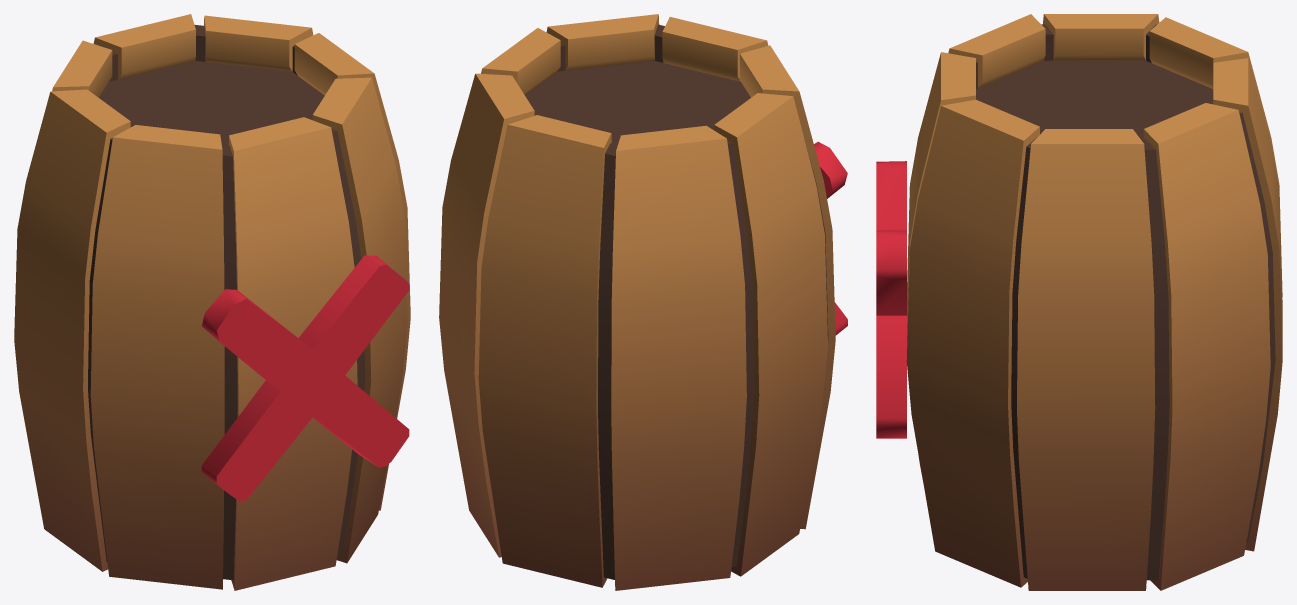
3 renders of one model, left to right at view 1: azimuth 30°, elevation 25°; view 2: azimuth 150°, elevation 25°; view 3: azimuth 270°, elevation 25°, orthographic.
Visible parts, largest first — view 1: LOD 1_4746937021995407784_ff341511bebd94b45835b85c6ba3315b; view 2: LOD 1_4746937021995407784_ff341511bebd94b45835b85c6ba3315b; view 3: LOD 1_4746937021995407784_ff341511bebd94b45835b85c6ba3315b.
Boxes of the visible parts, x1,y1,x2,y2 form: LOD 1_4746937021995407784_ff341511bebd94b45835b85c6ba3315b: [14, 14, 410, 590]; LOD 1_4746937021995407784_ff341511bebd94b45835b85c6ba3315b: [439, 14, 847, 590]; LOD 1_4746937021995407784_ff341511bebd94b45835b85c6ba3315b: [876, 14, 1282, 590].
Bounding box in the file's own units: 0.7621 × 0.995 × 0.8237.
